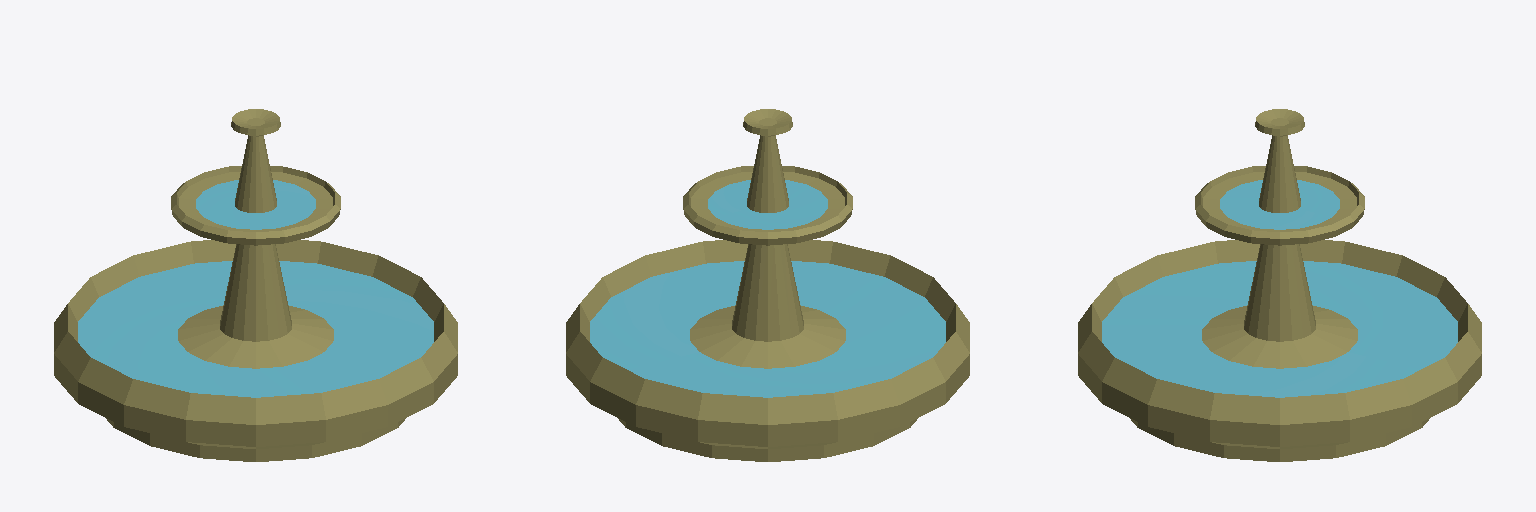
3 renders of one model, left to right at view 1: azimuth 30°, elevation 25°; view 2: azimuth 150°, elevation 25°; view 3: azimuth 270°, elevation 25°, orthographic.
Visible parts, largest first — view 1: Cylinder003, Cylinder004, Cylinder005; view 2: Cylinder003, Cylinder004, Cylinder005; view 3: Cylinder003, Cylinder004, Cylinder005.
Part boxes in pixels (x1,y1,x2,y2): Cylinder003: (54,109,457,461); Cylinder004: (78,261,433,397); Cylinder005: (196,180,315,229); Cylinder003: (566,109,969,461); Cylinder004: (590,261,945,397); Cylinder005: (708,180,827,229); Cylinder003: (1078,109,1481,461); Cylinder004: (1102,261,1457,397); Cylinder005: (1220,180,1339,229).
Bounding box in the file's own units: 7.25 × 5.33 × 7.13.
2 materials, 2 textured.